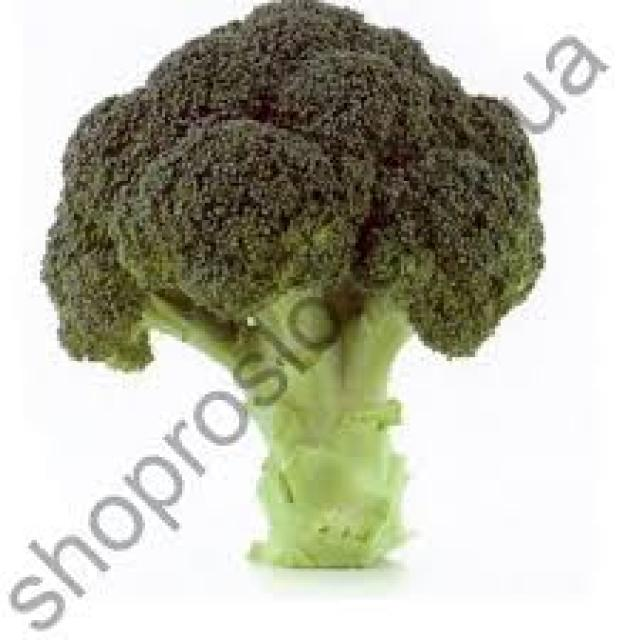broccoli: (26, 0, 560, 566)
